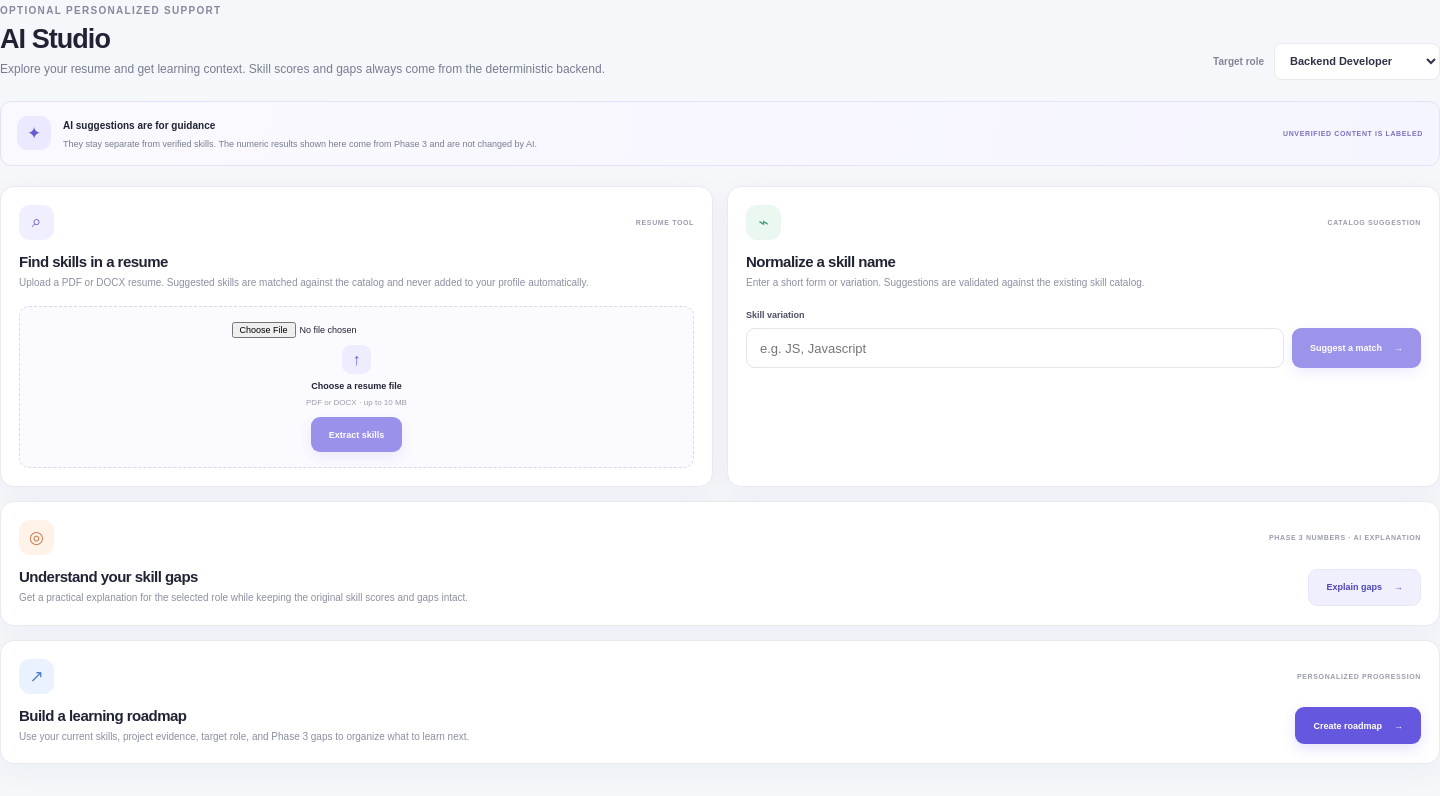
it: student workspace frontend › labels an AI fallback response clearly
Click the button "Explain gaps →". click: (1365, 587)
box: x1=1308 y1=569 x2=1421 y2=606
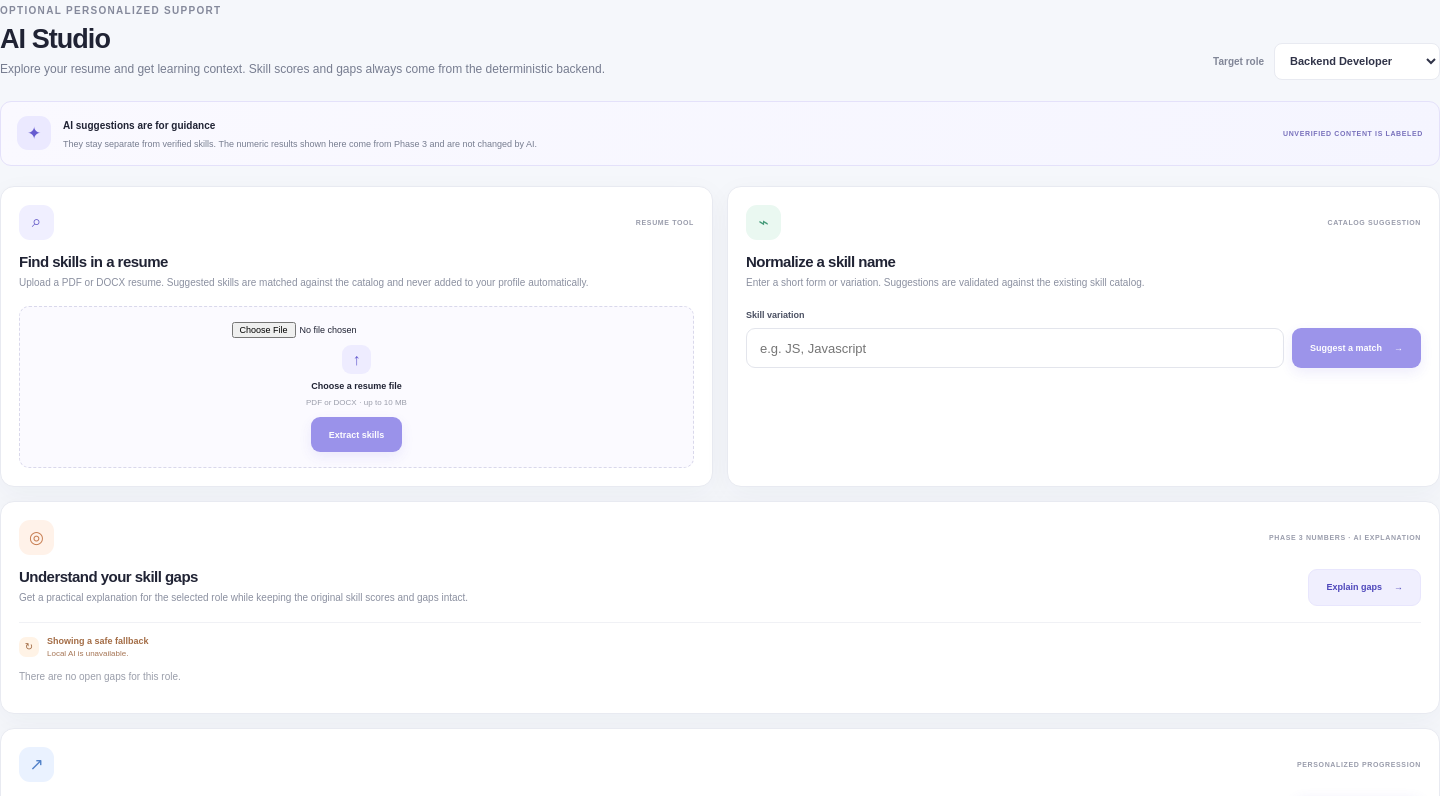
Expected: the text "Showing a safe fallback" is shown, x1=47 y1=636 x2=148 y2=646
Expected: the text "Local AI is unavailable." is shown, x1=47 y1=649 x2=128 y2=658
